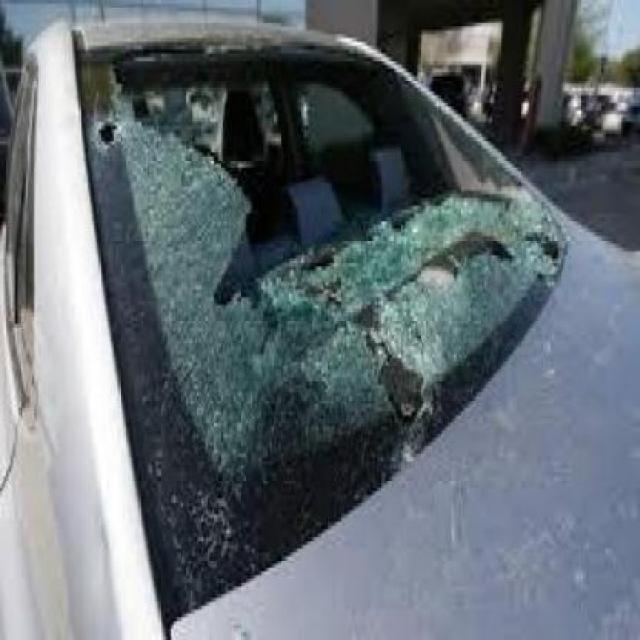damage: (84, 40, 564, 602)
